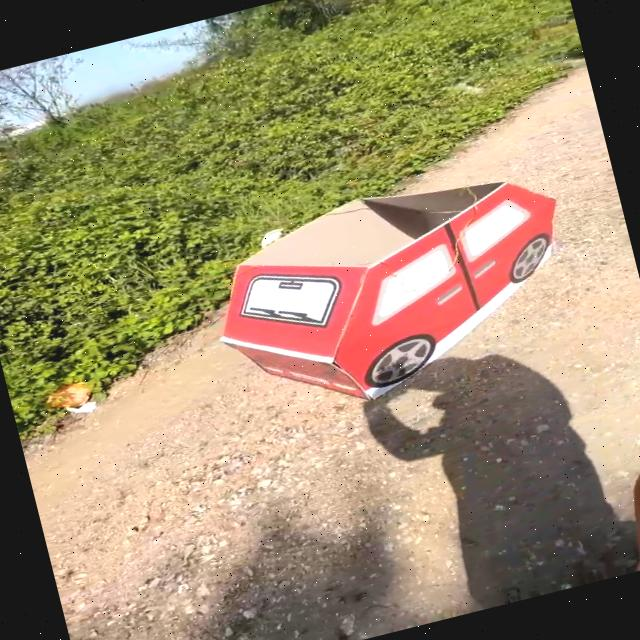red_car: (185, 132, 624, 449)
